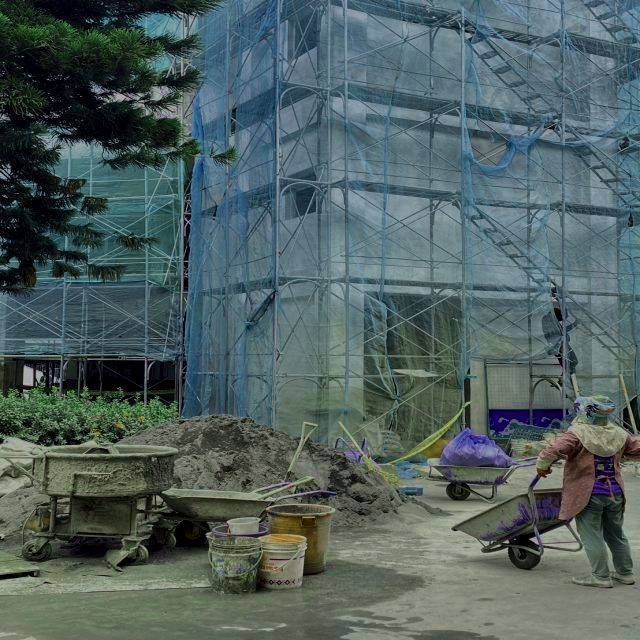Sin_Casco_Mascarrilla: (574, 396, 617, 423)
Sin_Chaleco: (569, 424, 628, 494)
